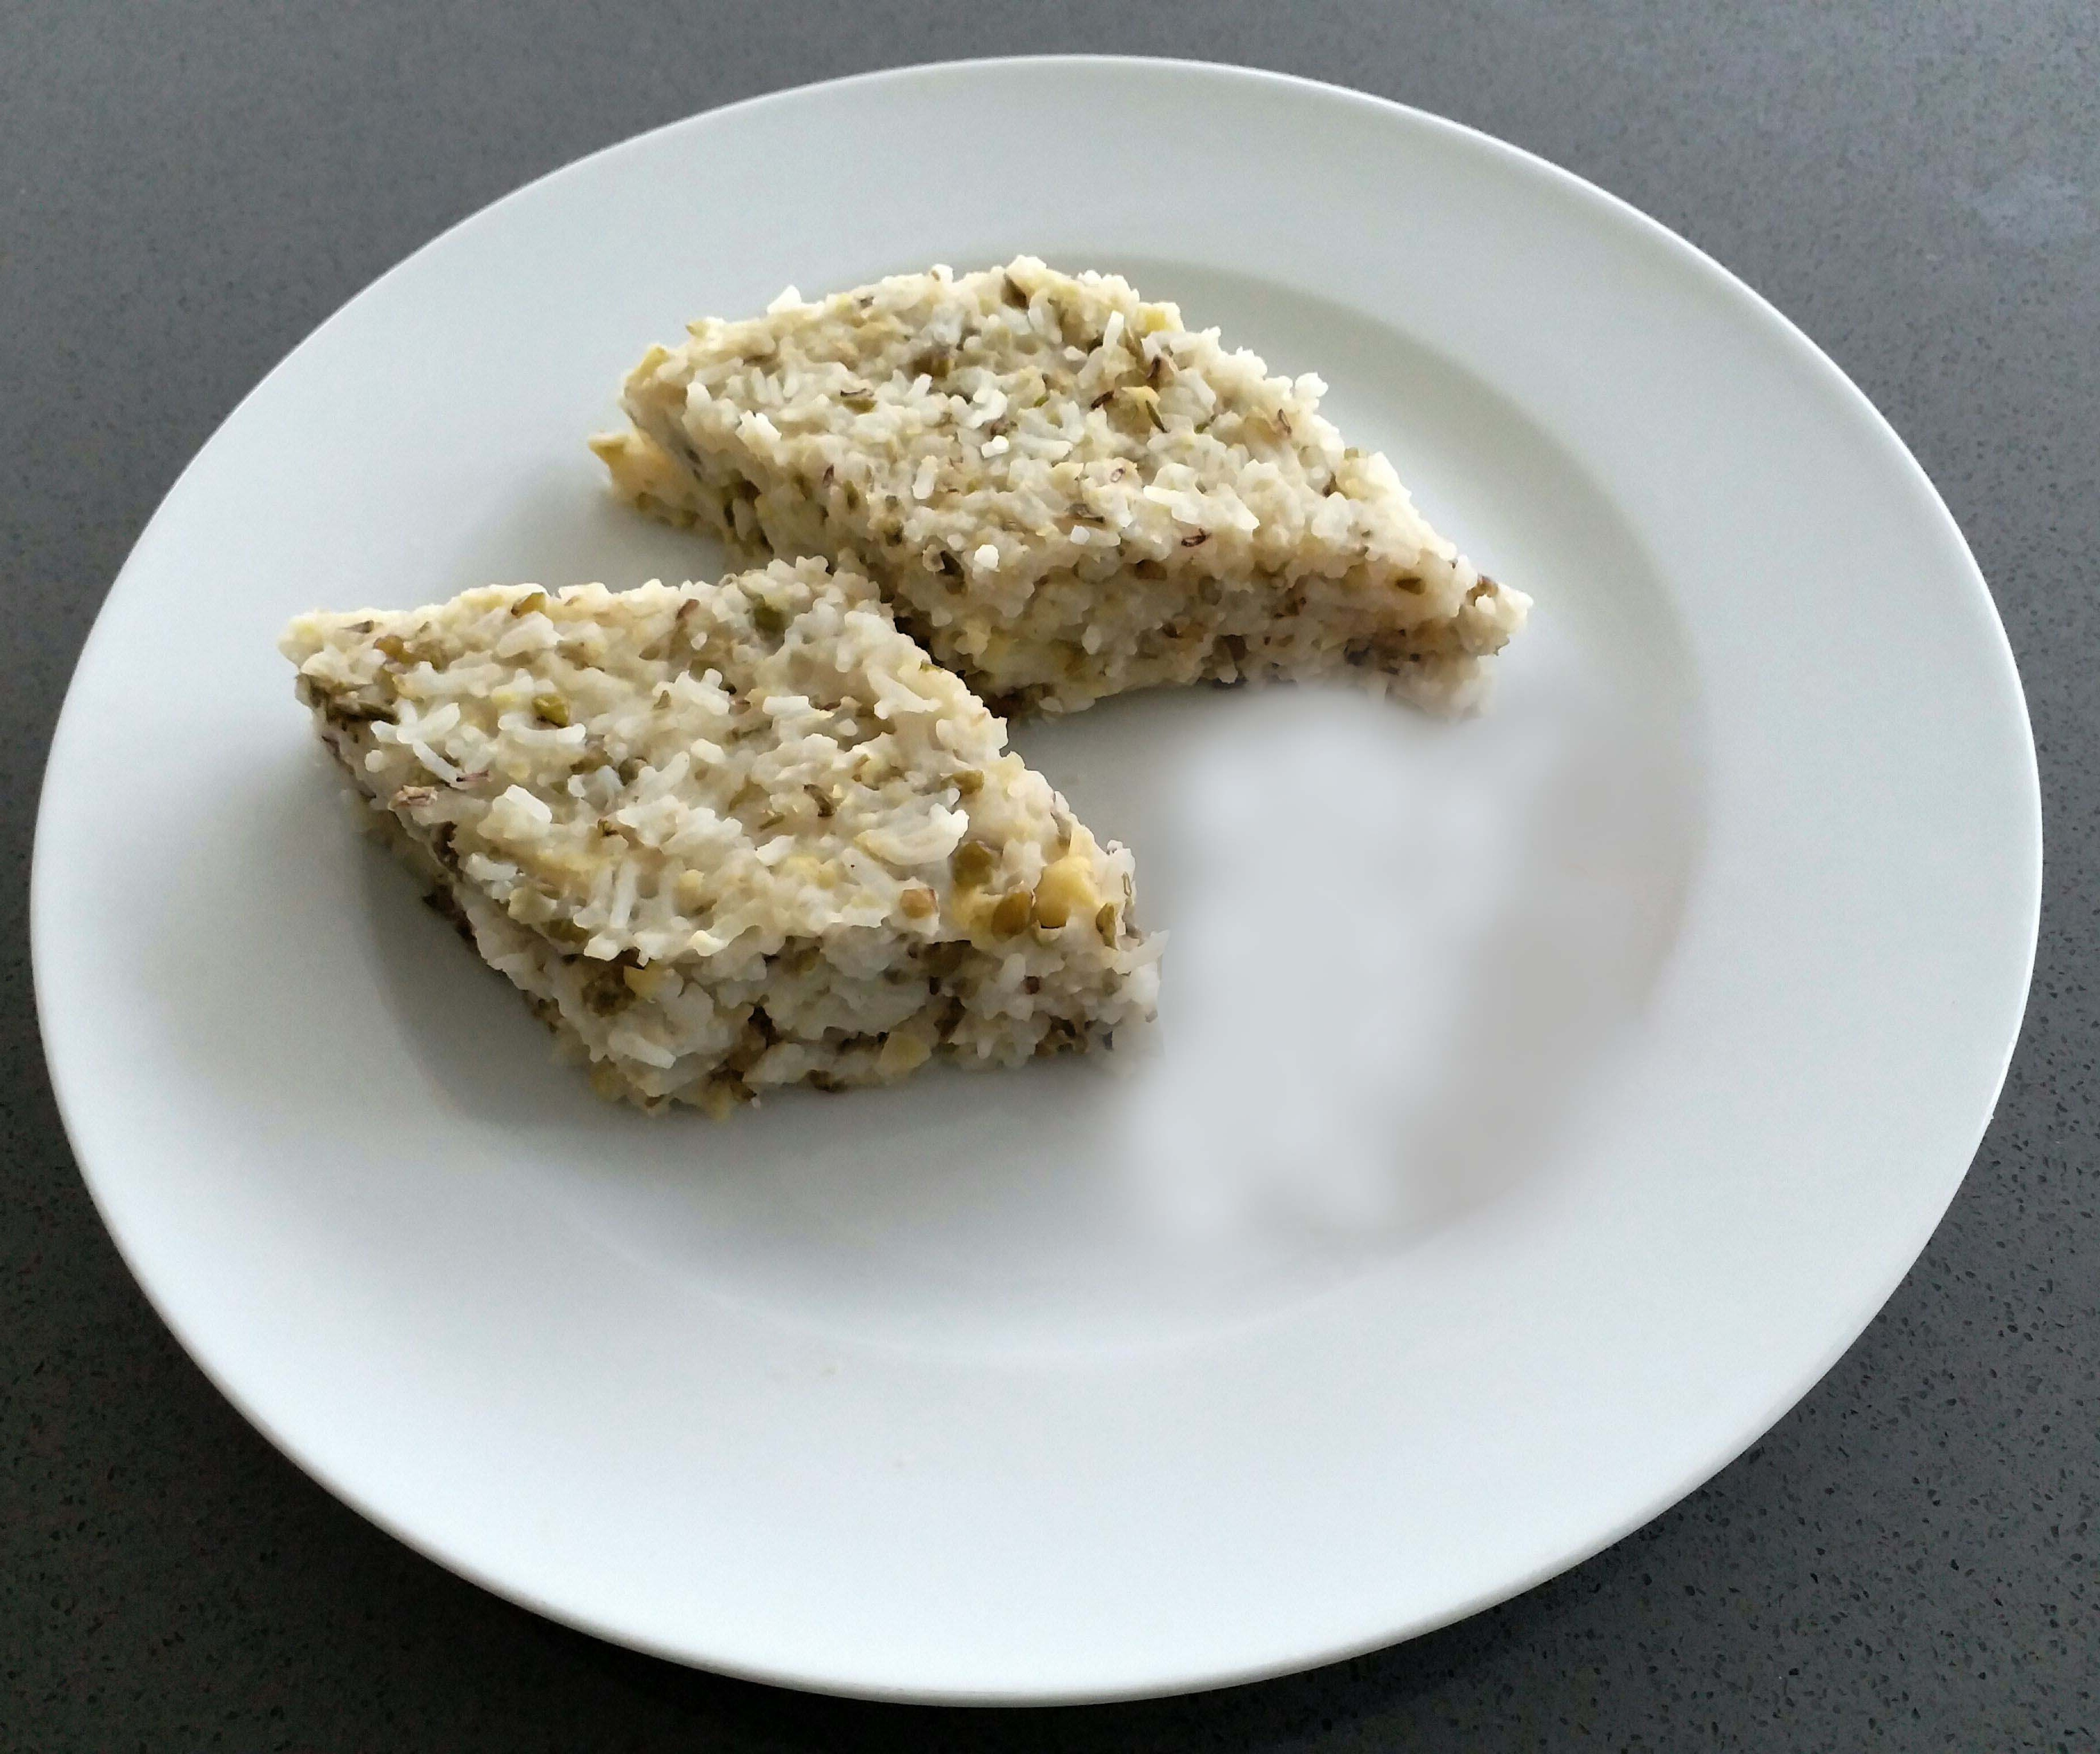kiribath: (274, 554, 1169, 1121), (593, 251, 1530, 710)
